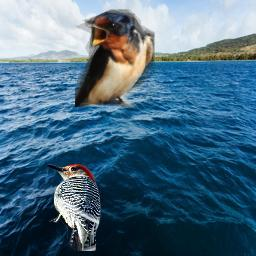Swallow: (75, 9, 155, 107)
Woodpecker: (42, 159, 104, 251)
